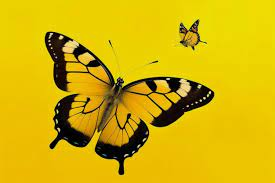Butterfly: (44, 31, 216, 177), (174, 19, 208, 52)
